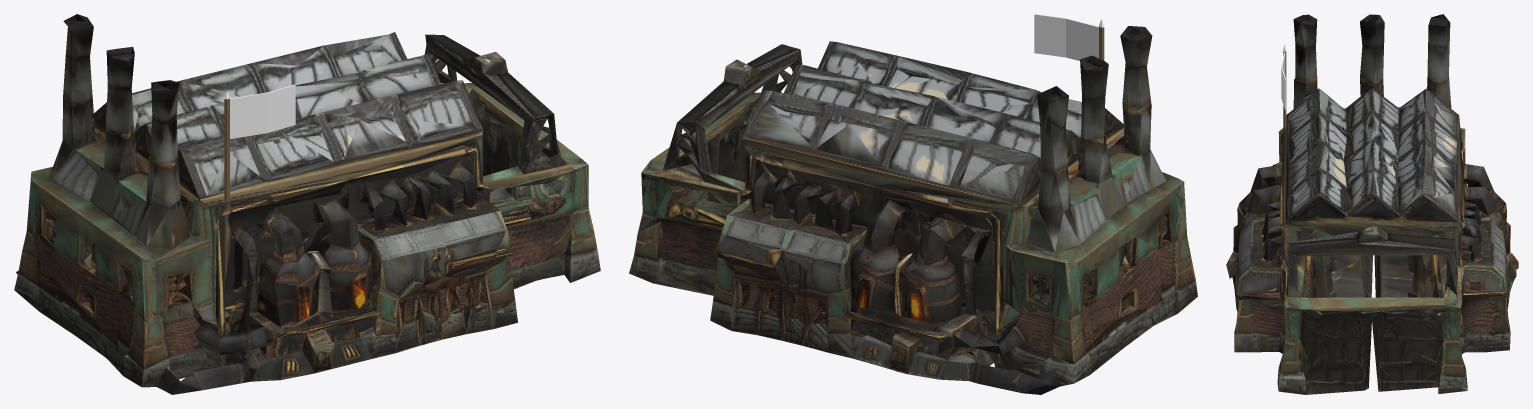
3 views of the same model, side by side, from view 1: azimuth 30°, elevation 25°; view 2: azimuth 150°, elevation 25°; view 3: azimuth 270°, elevation 25° (orthographic). The views are drawn at different scales.
Visible parts, largest first — view 1: engine_works, Team_banner; view 2: engine_works, Team_banner; view 3: engine_works, Team_banner.
Part boxes in pixels (left/top/right/bottom): engine_works: left=14, top=14, right=600, bottom=394; Team_banner: left=224, top=84, right=295, bottom=202; engine_works: left=629, top=26, right=1197, bottom=394; Team_banner: left=1034, top=14, right=1104, bottom=60; engine_works: left=1226, top=14, right=1518, bottom=394; Team_banner: left=1281, top=45, right=1286, bottom=130.
Bounding box in the file's own units: 1.9 × 1.12 × 1.34.
3 materials, 1 textured.
